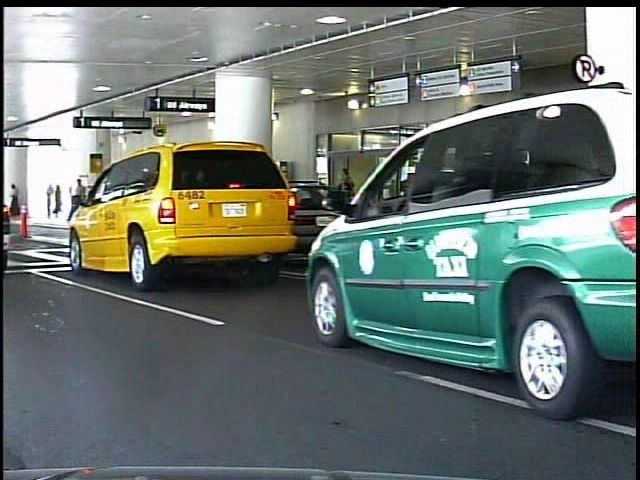person: (332, 166, 361, 252), (71, 177, 91, 230), (57, 183, 70, 222), (11, 183, 25, 219), (51, 182, 62, 222)
